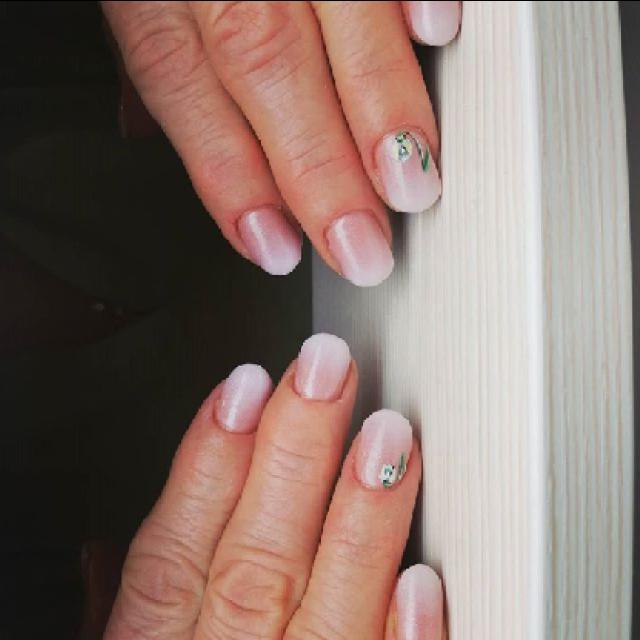Nail: (375, 129, 441, 211), (326, 210, 393, 286), (355, 407, 413, 488), (238, 205, 301, 274), (215, 362, 272, 432), (295, 331, 351, 400), (395, 564, 443, 640), (402, 0, 460, 45)
